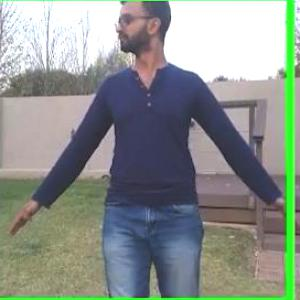land: (20, 0, 299, 299)
